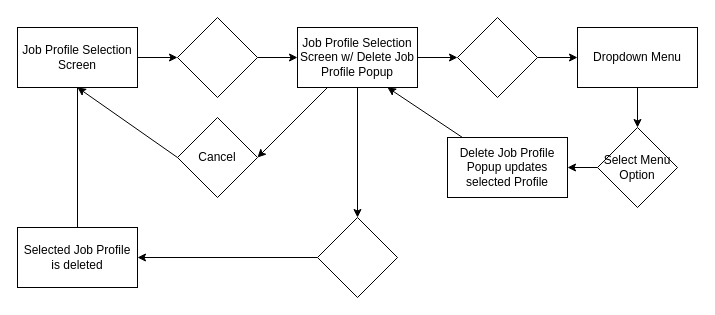
The diagram is 715 pixels wide and 315 high, and some of its shapes have lost their labels. The shapes that lost their labels are listed below. From the top down, each one's centre as x and y in pixels, then its label:
[217,57]: Delete Job Profile
[497,57]: Dropdown Arrow
[357,257]: Done
